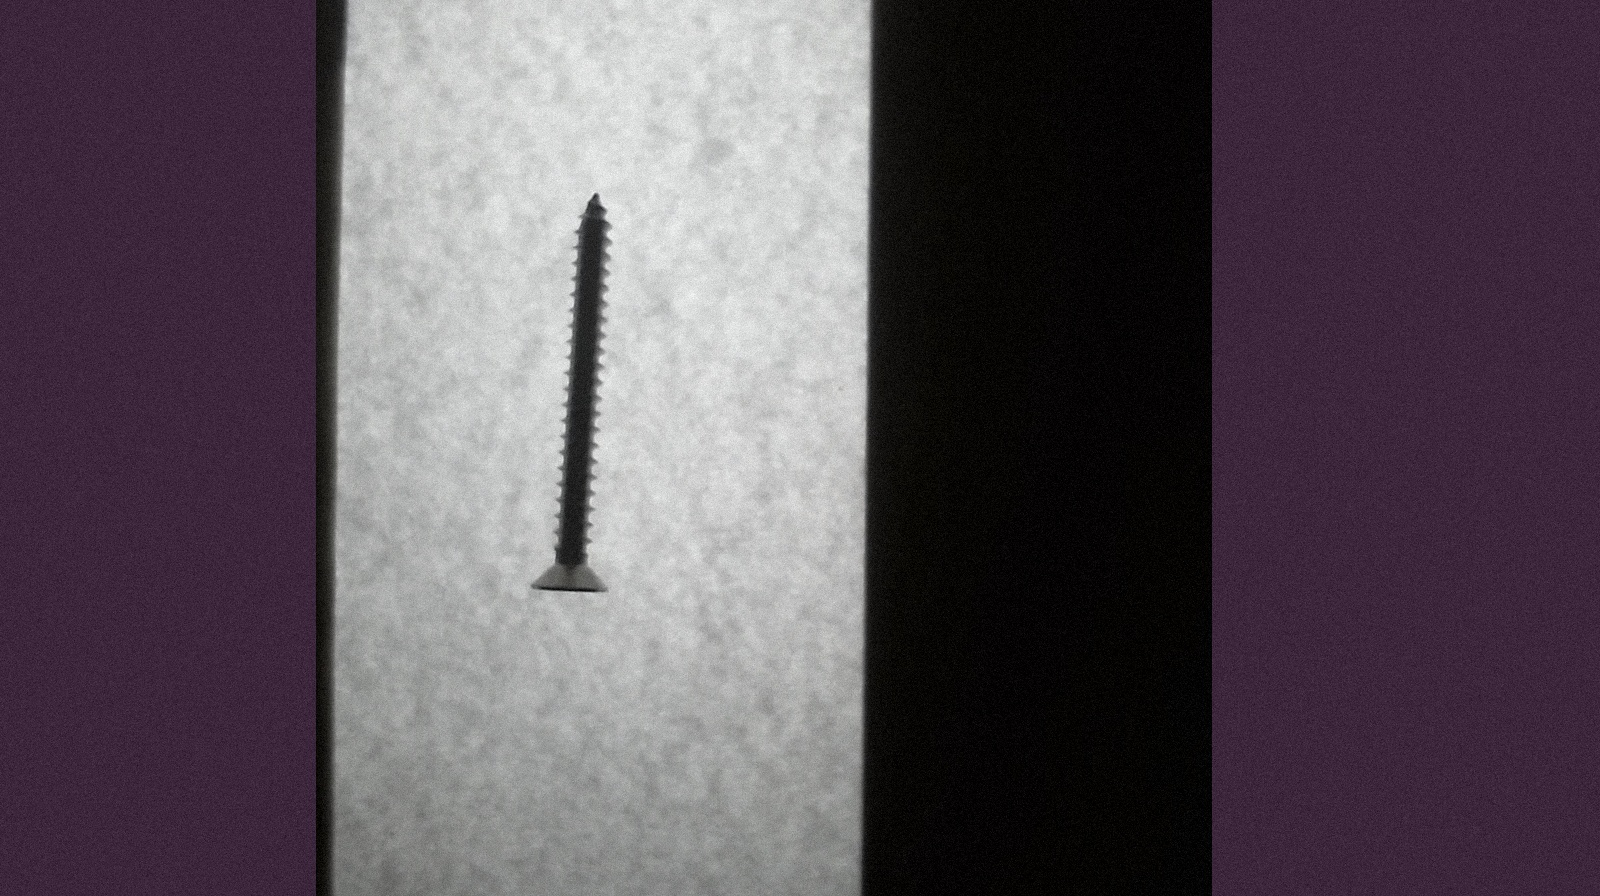S002: (524, 158, 631, 621)
